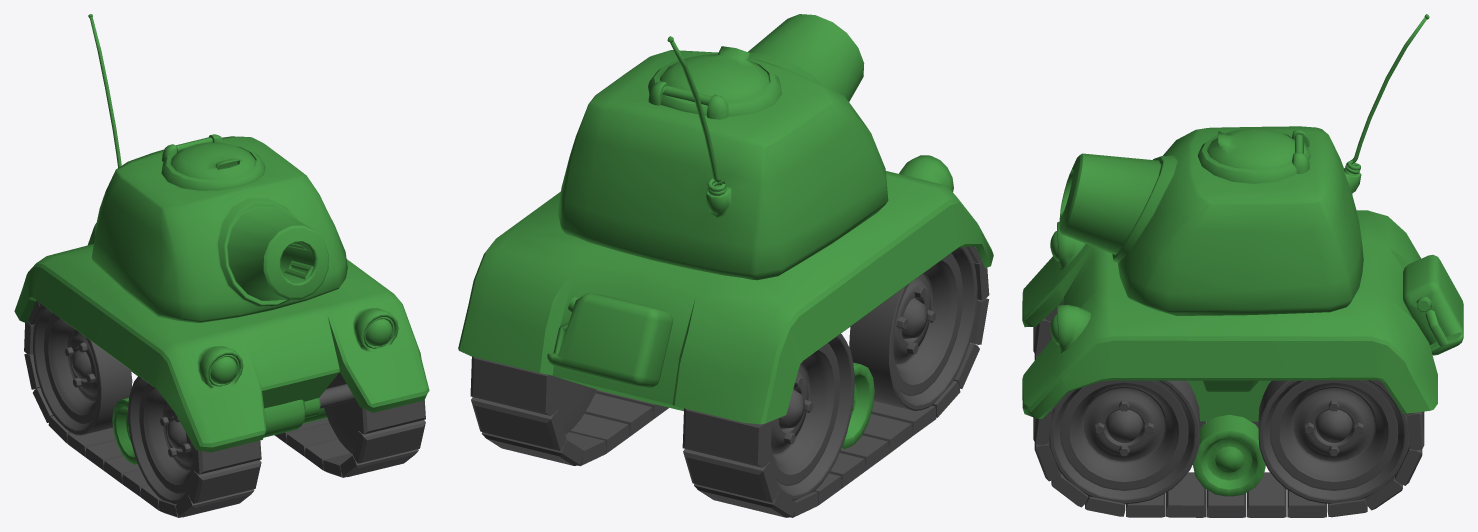
File: GreenTank.fbx
The picture shows the model from 3 angles, left to right: view 1: azimuth 30°, elevation 25°; view 2: azimuth 150°, elevation 25°; view 3: azimuth 270°, elevation 25°; orthographic projection. The views are drawn at different scales.
Visible parts, largest first — view 1: TankChassis, TankTurret, TankTracksRight, TankTracksLeft; view 2: TankChassis, TankTurret, TankTracksRight, TankTracksLeft; view 3: TankChassis, TankTurret, TankTracksLeft, TankTracksRight.
Boxes of the visible parts, x1=… form: TankChassis: x1=14, y1=223, x2=429, y2=464; TankTurret: x1=88, y1=14, x2=347, y2=322; TankTracksRight: x1=24, y1=301, x2=261, y2=517; TankTracksLeft: x1=274, y1=372, x2=425, y2=477; TankChassis: x1=458, y1=155, x2=993, y2=448; TankTurret: x1=558, y1=14, x2=888, y2=280; TankTracksRight: x1=682, y1=246, x2=989, y2=517; TankTracksLeft: x1=470, y1=356, x2=668, y2=466; TankChassis: x1=1022, y1=210, x2=1463, y2=496; TankTurret: x1=1059, y1=14, x2=1429, y2=315; TankTracksLeft: x1=1033, y1=380, x2=1424, y2=517; TankTracksRight: x1=1033, y1=302, x2=1258, y2=428.
Size of the model in its own units: 3.02 by 4.42 by 4.2.
